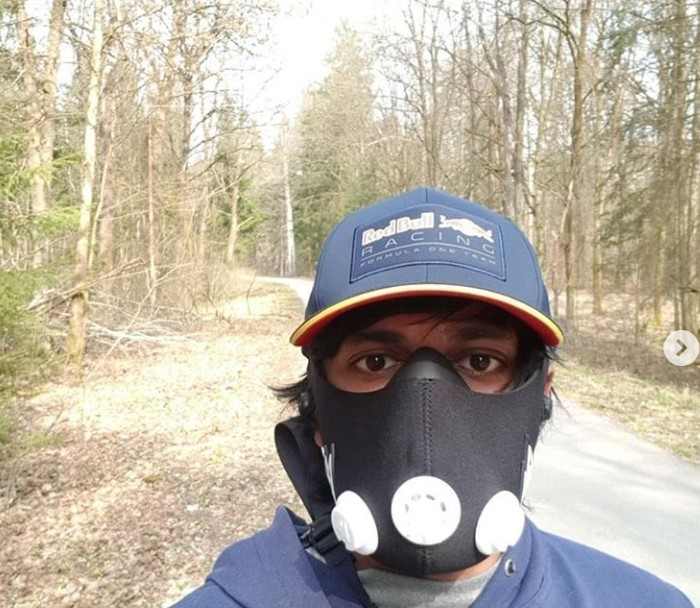face_with_mask: (275, 192, 557, 575)
